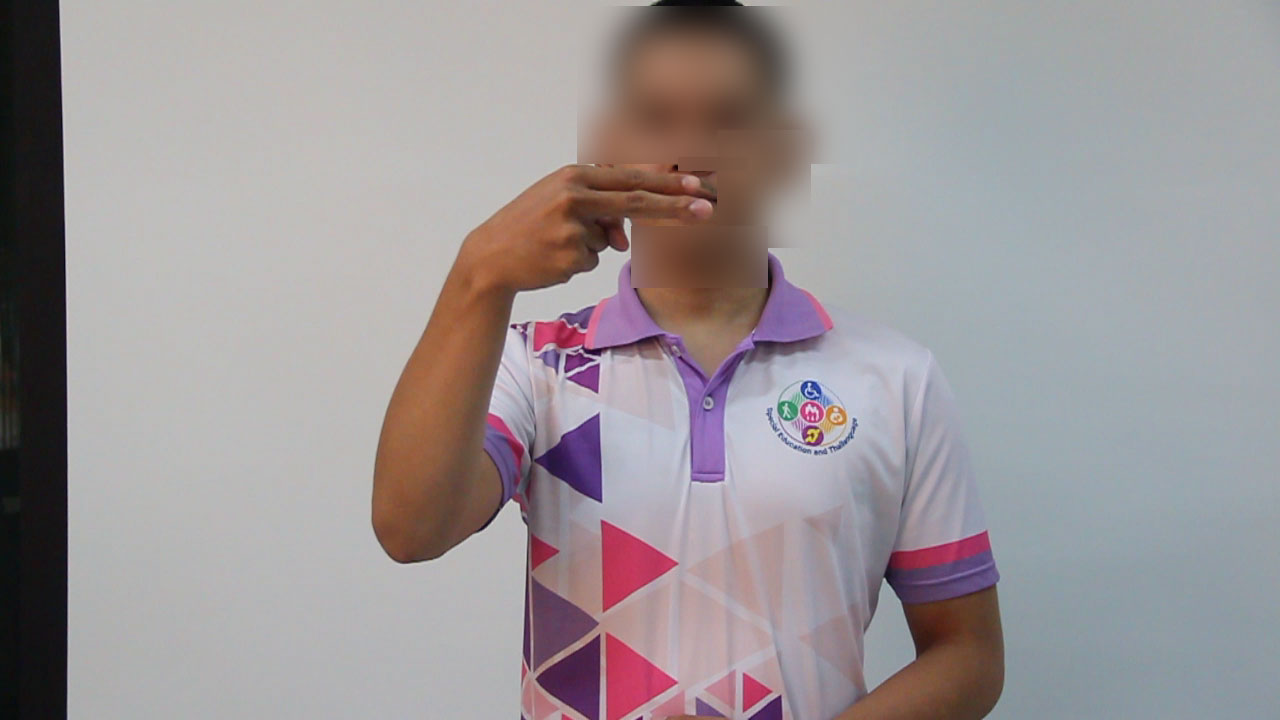hor: (457, 159, 724, 297)
